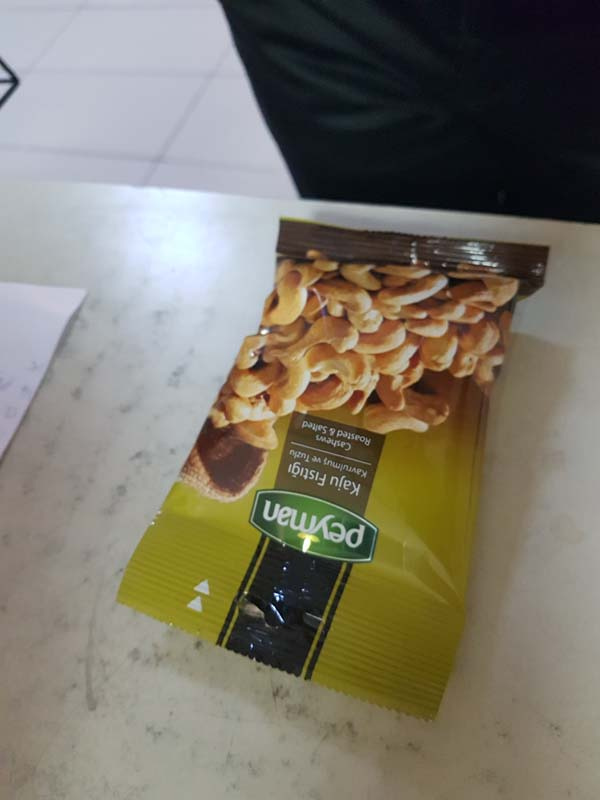kajupeyman: (100, 208, 556, 728)
